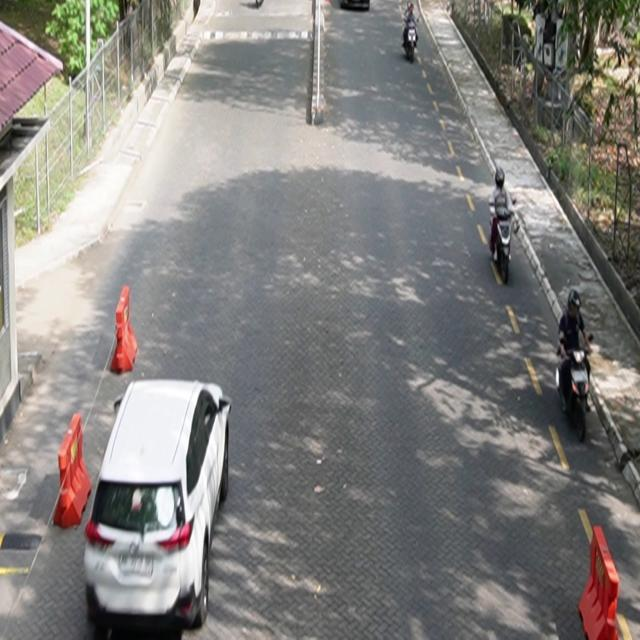car: (84, 378, 233, 634)
